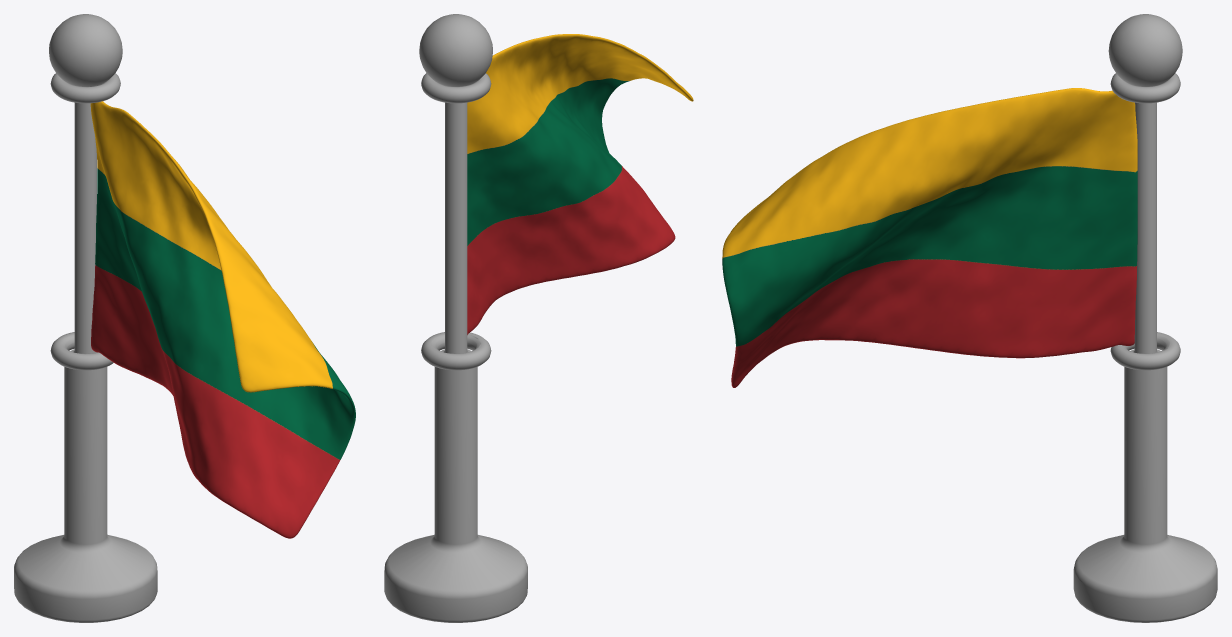
3 views of the same model, side by side, from view 1: azimuth 30°, elevation 25°; view 2: azimuth 150°, elevation 25°; view 3: azimuth 270°, elevation 25° (orthographic).
Visible parts, largest first — view 1: Flag ShapeKeys_2_4, Circle, Sphere, Torus.002, Torus.001; view 2: Flag ShapeKeys_2_4, Circle, Sphere, Torus.001, Torus.002; view 3: Flag ShapeKeys_2_4, Circle, Sphere, Torus.001, Torus.002.
Part boxes in pixels (x1,y1,x2,y2): Flag ShapeKeys_2_4: [90, 101, 355, 538]; Circle: [14, 102, 157, 622]; Sphere: [49, 14, 122, 86]; Torus.002: [50, 73, 120, 103]; Torus.001: [50, 332, 113, 370]; Flag ShapeKeys_2_4: [467, 34, 693, 334]; Circle: [384, 102, 527, 622]; Sphere: [419, 14, 492, 86]; Torus.001: [421, 332, 491, 370]; Torus.002: [421, 73, 491, 103]; Flag ShapeKeys_2_4: [722, 88, 1137, 387]; Circle: [1073, 102, 1217, 622]; Sphere: [1108, 14, 1182, 86]; Torus.001: [1110, 332, 1180, 370]; Torus.002: [1110, 73, 1180, 103].
Bounding box in the file's own units: 0.9476 × 4.15 × 3.23.
3 materials, 1 textured.
